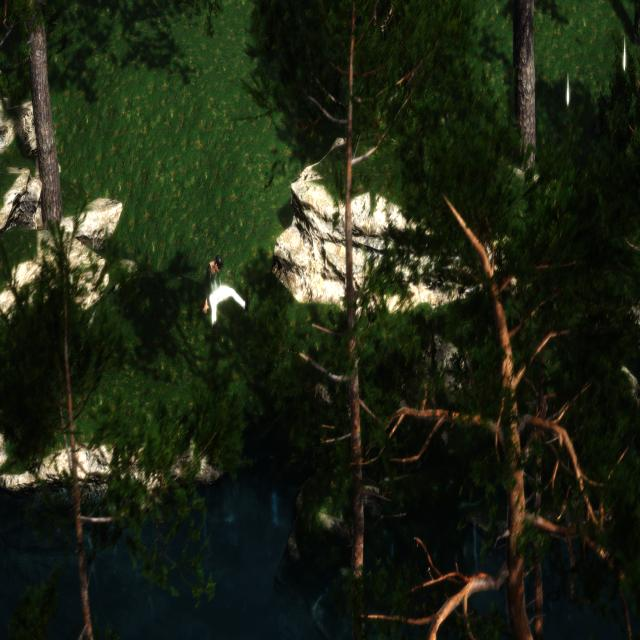Human: (201, 255, 252, 338)
